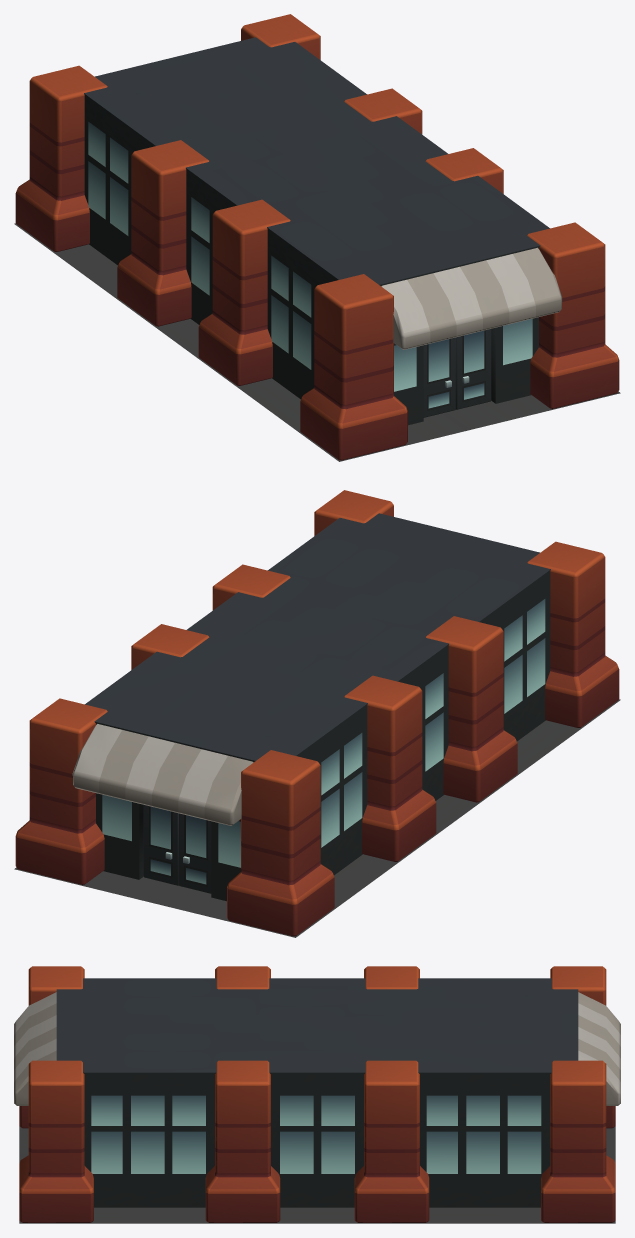
Rendered from office_building_type2_ground_floor_red.fbx.
The picture shows the model from 3 angles, top to bottom: view 1: azimuth 30°, elevation 25°; view 2: azimuth 150°, elevation 25°; view 3: azimuth 270°, elevation 25°; orthographic projection. The views are drawn at different scales.
Parts seen in each view (by area): view 1: office_building_type2_ground_floor_red, door_front_office2_right, door_front_office2_left; view 2: office_building_type2_ground_floor_red, door_back_office2_left, door_back_office2_right; view 3: office_building_type2_ground_floor_red.
Part boxes in pixels (x1,y1,x2,y2): office_building_type2_ground_floor_red: (14,14,620,461); door_front_office2_right: (456,328,491,409); door_front_office2_left: (423,337,455,417); office_building_type2_ground_floor_red: (14,490,620,937); door_back_office2_left: (143,804,178,885); door_back_office2_right: (179,813,211,893); office_building_type2_ground_floor_red: (14,966,620,1223).
Bounding box in the file's own units: 800 × 409 × 1629.
